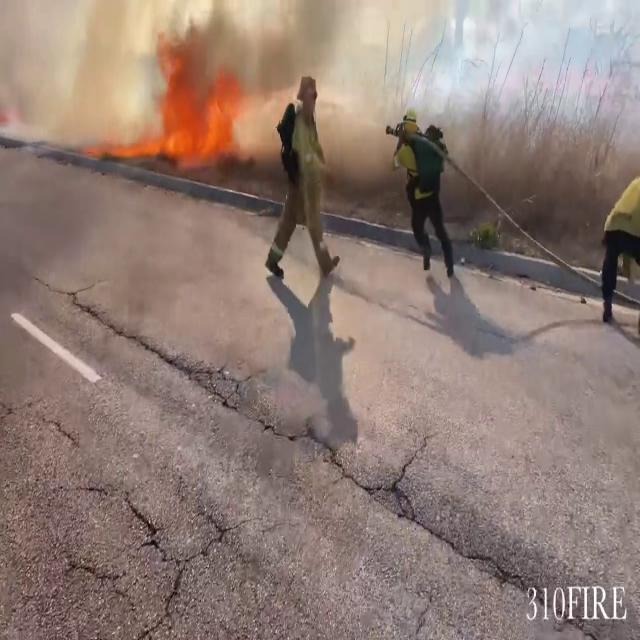Fire: (133, 63, 260, 169)
